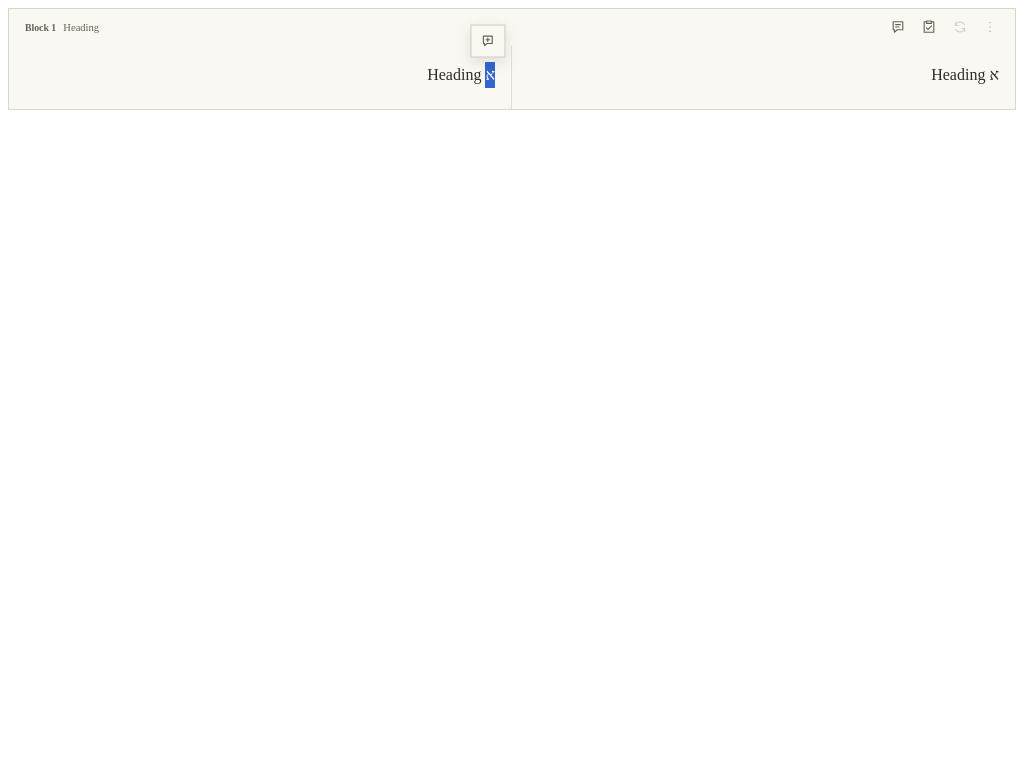
Test case: BlockCard contextual annotations › prefills a source-anchored note from the source selection
Check: the text "א Heading" is shown, box [427,66,495,83]
Click the button named "Add note to selected source text" at (488, 41), box [474,28,502,54]
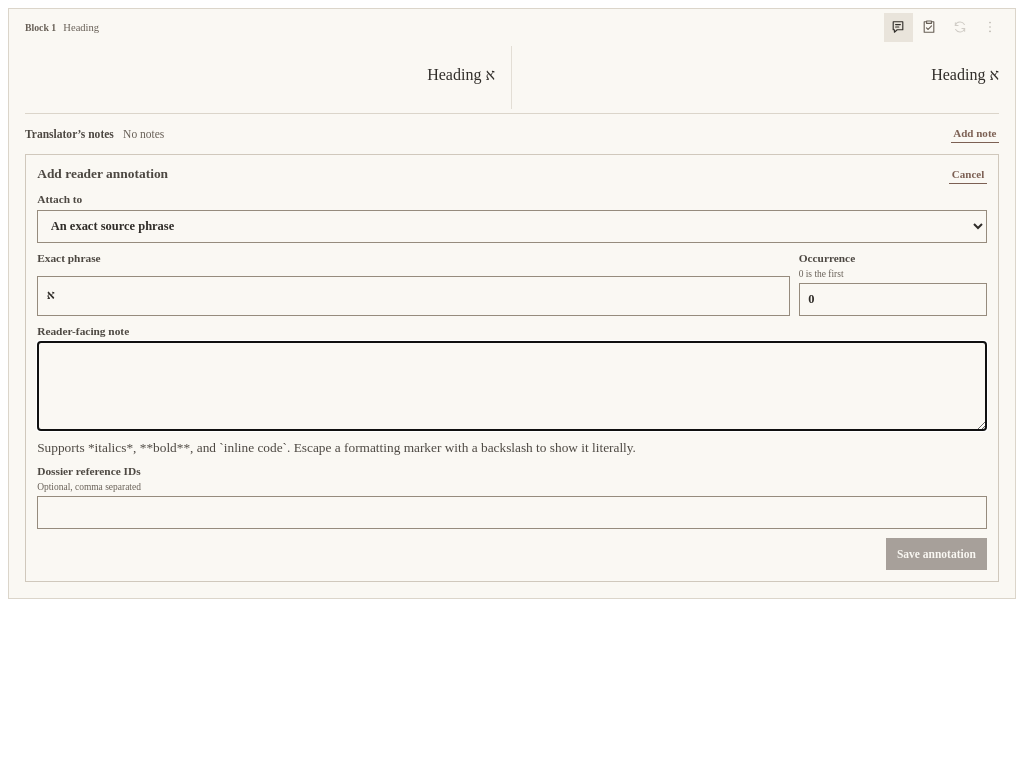
Check: the dropdown labelled "Attach to" shows "An exact source phrase", box [37,210,987,243]
Check: the field labelled "Exact phrase" holds "א", box [37,276,790,316]
Check: the number field labelled "Occurrence 0 is the first" holds "0", box [799,283,987,316]
